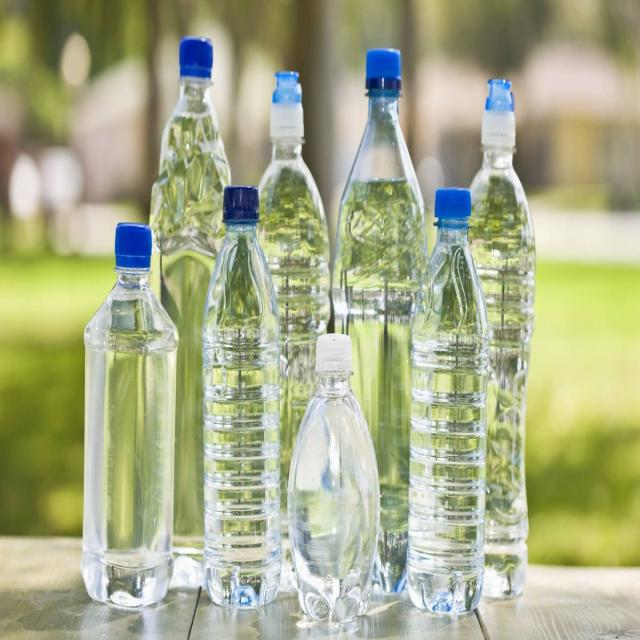Botella Plastica: (79, 221, 178, 611)
